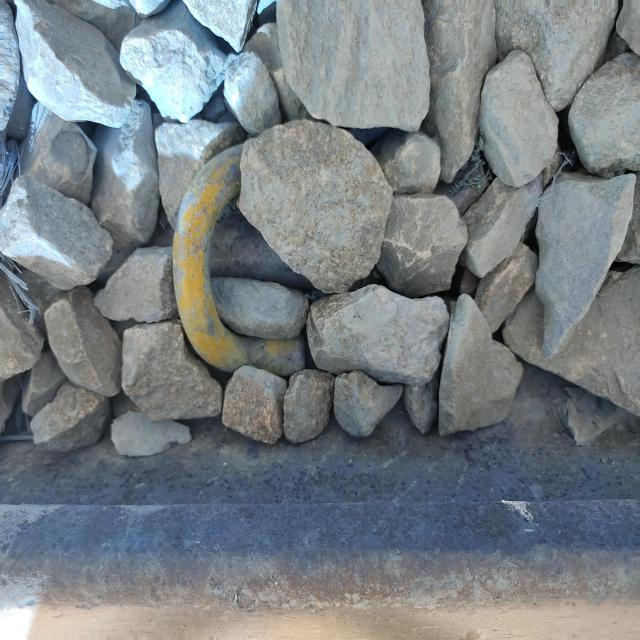Good Fasteners: (172, 144, 302, 375)
